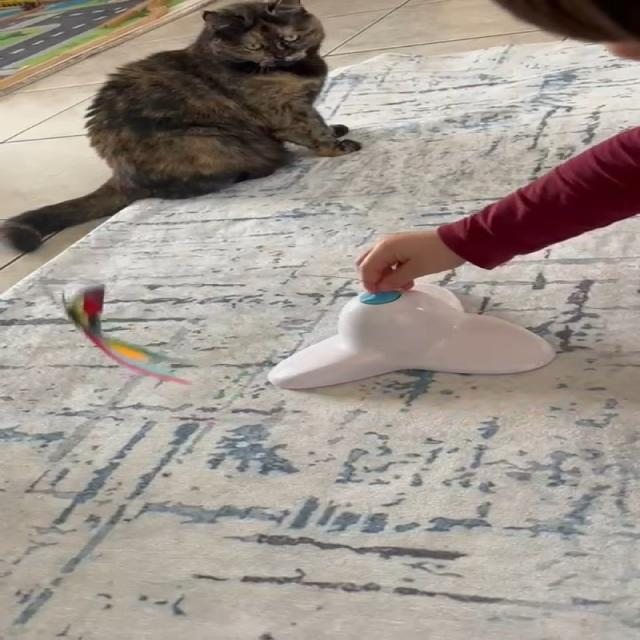authorized: (0, 0, 361, 253)
